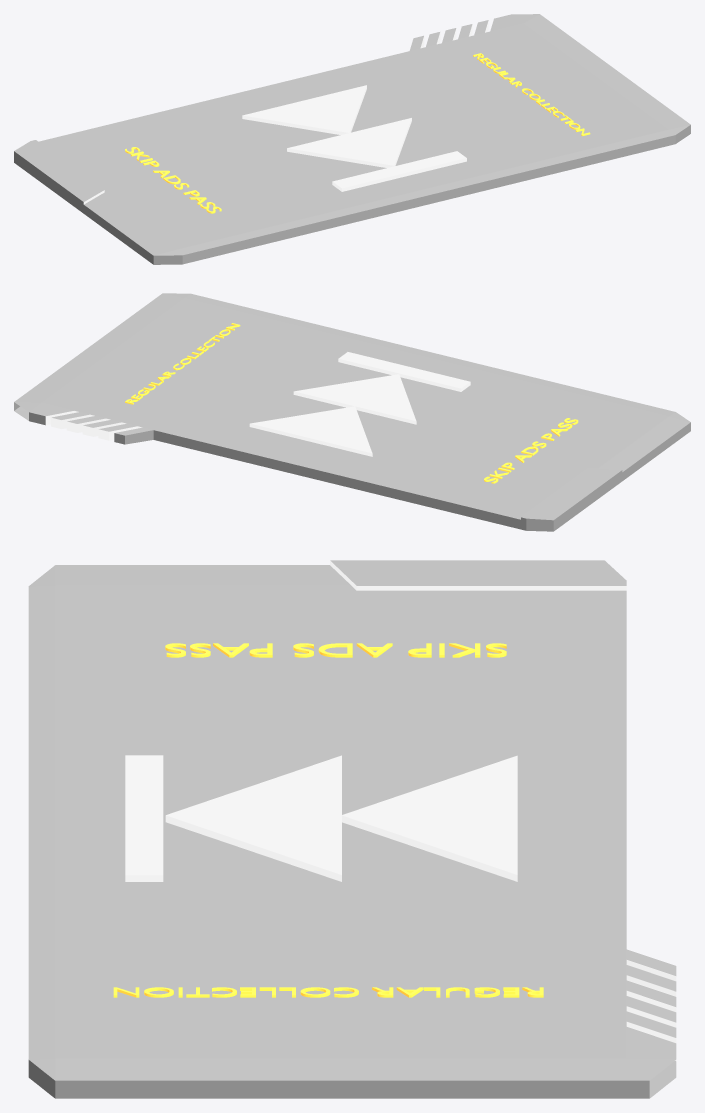
The model's file is skip_ads_pass.glb.
3 views of the same model, one above another, from view 1: azimuth 30°, elevation 25°; view 2: azimuth 150°, elevation 25°; view 3: azimuth 270°, elevation 25° (orthographic). The views are drawn at different scales.
Parts seen in each view (by area): view 1: Cube, Cube.002, Text.001, Text; view 2: Cube, Cube.002, Text.001, Text; view 3: Cube, Cube.002, Text.001, Text.
Part boxes in pixels (bbox=[...]): Cube: bbox=[14, 14, 690, 264]; Cube.002: bbox=[242, 85, 466, 191]; Text.001: bbox=[125, 147, 221, 213]; Text: bbox=[473, 53, 590, 136]; Cube: bbox=[14, 293, 690, 531]; Cube.002: bbox=[249, 352, 470, 456]; Text.001: bbox=[484, 418, 578, 483]; Text: bbox=[125, 323, 240, 404]; Cube: bbox=[28, 560, 676, 1098]; Cube.002: bbox=[125, 755, 517, 881]; Text.001: bbox=[165, 643, 506, 657]; Text: bbox=[113, 987, 543, 997].
Size of the model in its own units: 4.52 by 0.108 by 2.4.
